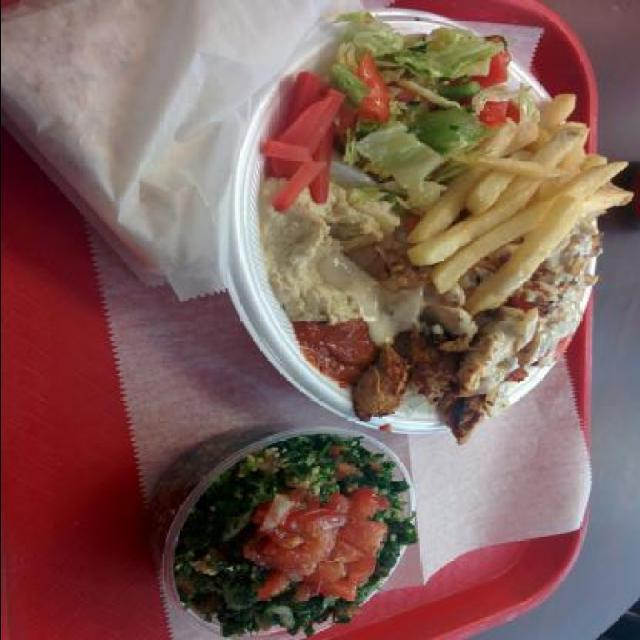Salad: (262, 7, 538, 210), (176, 432, 418, 640)
